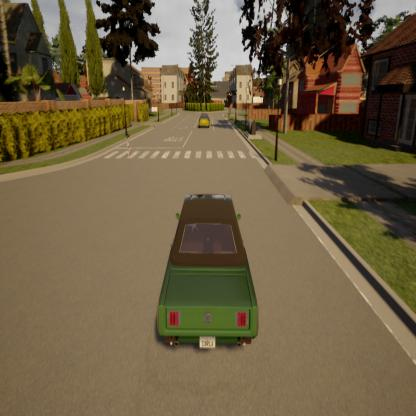Cars: (156, 192, 258, 352), (198, 109, 210, 130)
Pedestrian: (126, 133, 130, 162)
